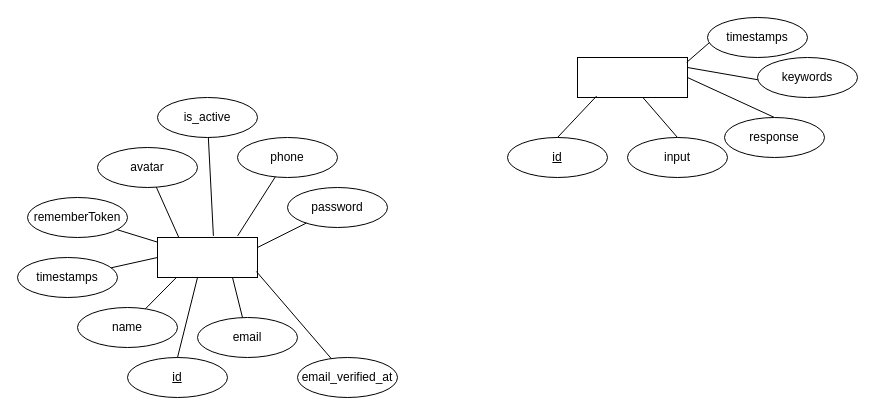
Some shapes in this 875 by 415 pixel diagram are drawn without their labels. The centre of each missing label's shape, as x and y in pixels:
chatbot_responses: pixel 632 77
Users: pixel 207 257
